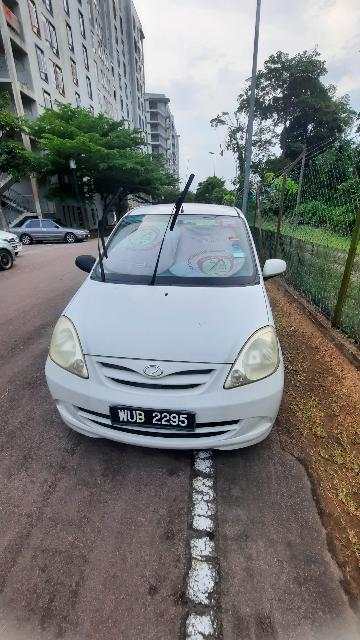License_Plate: (106, 399, 199, 435)
car: (43, 163, 296, 460)
